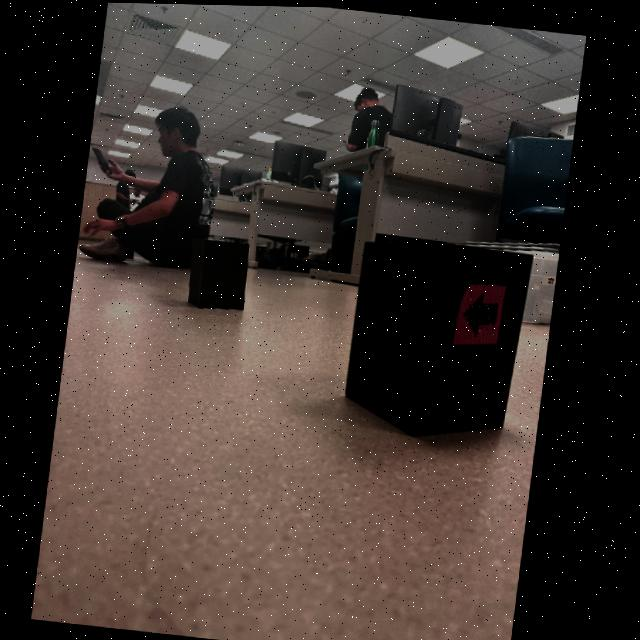LEFT: (467, 290, 499, 333)
